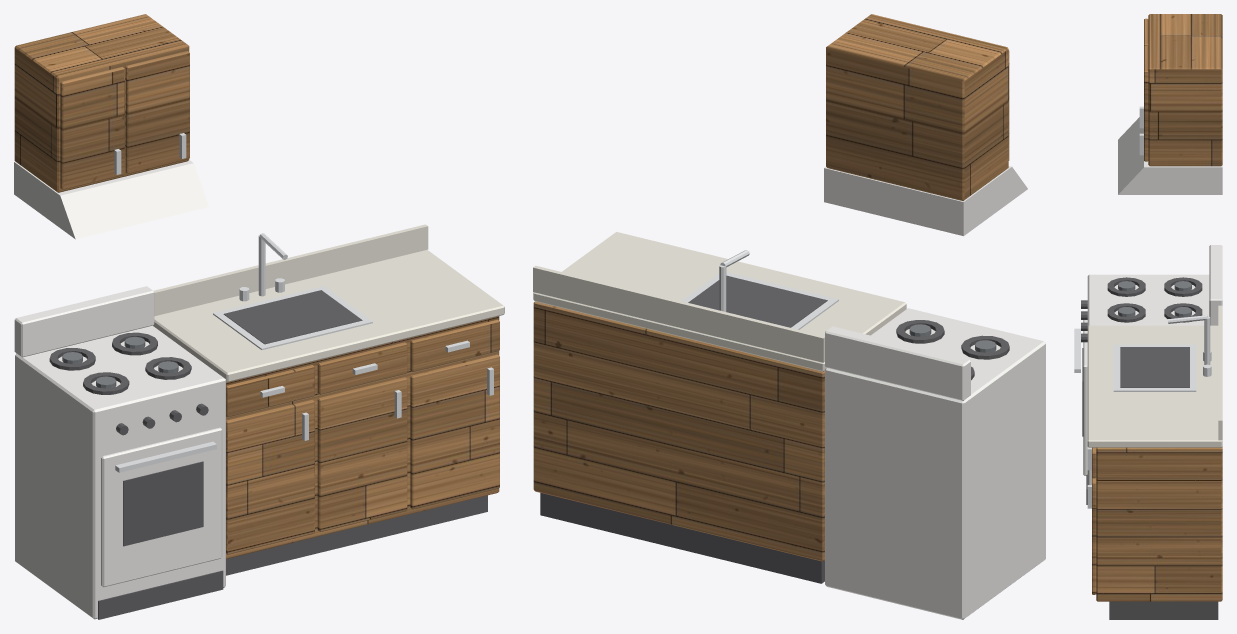
Rendered from kitchen.glb.
3 renders of one model, left to right at view 1: azimuth 30°, elevation 25°; view 2: azimuth 150°, elevation 25°; view 3: azimuth 270°, elevation 25°, orthographic. The views are drawn at different scales.
Parts seen in each view (by area): view 1: kitchen_cab, kitchen_enamel, kitchen_ctop, kitchen_dark, kitchen_chrome, kitchen_steel_d; view 2: kitchen_cab, kitchen_enamel, kitchen_ctop, kitchen_dark, kitchen_chrome; view 3: kitchen_cab, kitchen_ctop, kitchen_enamel, kitchen_dark, kitchen_chrome, kitchen_steel_d.
Boxes of the visible parts, <box> form: kitchen_cab: <box>14,14,499,558</box>; kitchen_enamel: <box>14,160,225,619</box>; kitchen_ctop: <box>153,224,504,381</box>; kitchen_dark: <box>49,290,487,619</box>; kitchen_chrome: <box>114,133,493,472</box>; kitchen_steel_d: <box>62,337,178,388</box>; kitchen_cab: <box>533,14,1009,561</box>; kitchen_enamel: <box>824,166,1045,619</box>; kitchen_ctop: <box>533,232,906,371</box>; kitchen_dark: <box>540,275,1009,583</box>; kitchen_chrome: <box>681,250,838,329</box>; kitchen_cab: <box>1092,14,1222,601</box>; kitchen_ctop: <box>1087,305,1222,447</box>; kitchen_enamel: <box>1083,117,1222,484</box>; kitchen_dark: <box>1081,277,1218,619</box>; kitchen_chrome: <box>1074,106,1211,508</box>; kitchen_steel_d: <box>1118,281,1191,316</box>.
Bounding box in the file's own units: 1.85 × 2.22 × 0.68.
Materials: 6 (1 with a texture image).
